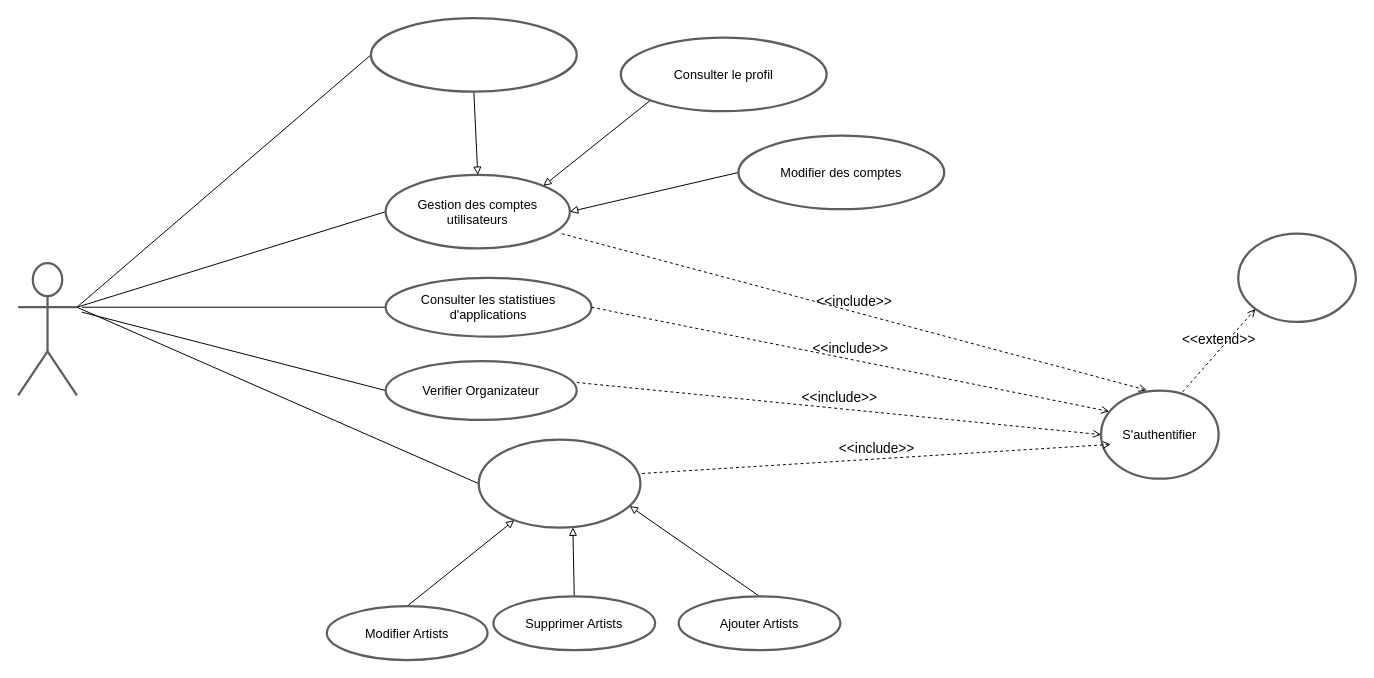
This 1374x678 diagram has some shape labels left out. The shapes that lost their labels are listed below. From the top down, each one's box as (x1, y1, x2, y2) in pixels, then its label:
(369, 17, 577, 92): Supprimer des comptes
(1237, 232, 1357, 323): Deconnecter
(17, 262, 78, 396): Admin
(477, 438, 641, 528): Gerer Artists
